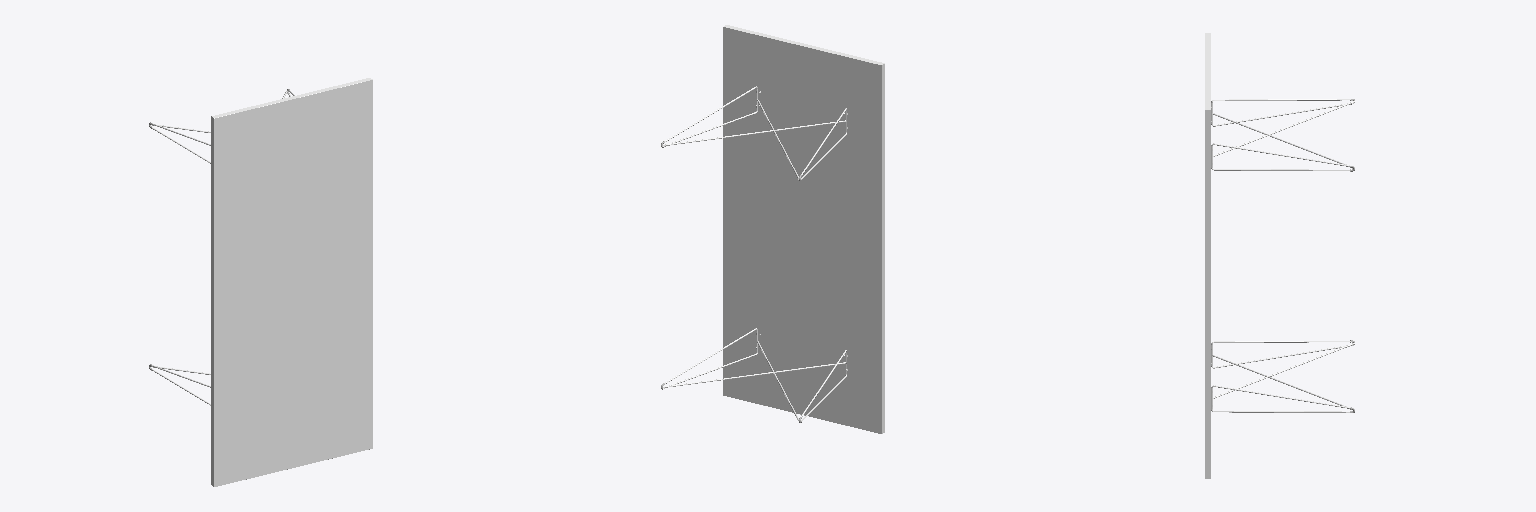
File: Magis_XZ3_200_mat(1).obj
The picture shows the model from 3 angles: view 1: azimuth 30°, elevation 25°; view 2: azimuth 150°, elevation 25°; view 3: azimuth 270°, elevation 25°; orthographic projection.
Visible parts, largest first — view 1: Magis_XZ3_200_mat1; view 2: Magis_XZ3_200_mat1; view 3: Magis_XZ3_200_mat1.
Part boxes in pixels (x1,y1,x2,y2): Magis_XZ3_200_mat1: (149,78,372,486); Magis_XZ3_200_mat1: (661,25,884,433); Magis_XZ3_200_mat1: (1205,33,1354,478).
Size of the model in its own units: 90 by 200 by 74.03.